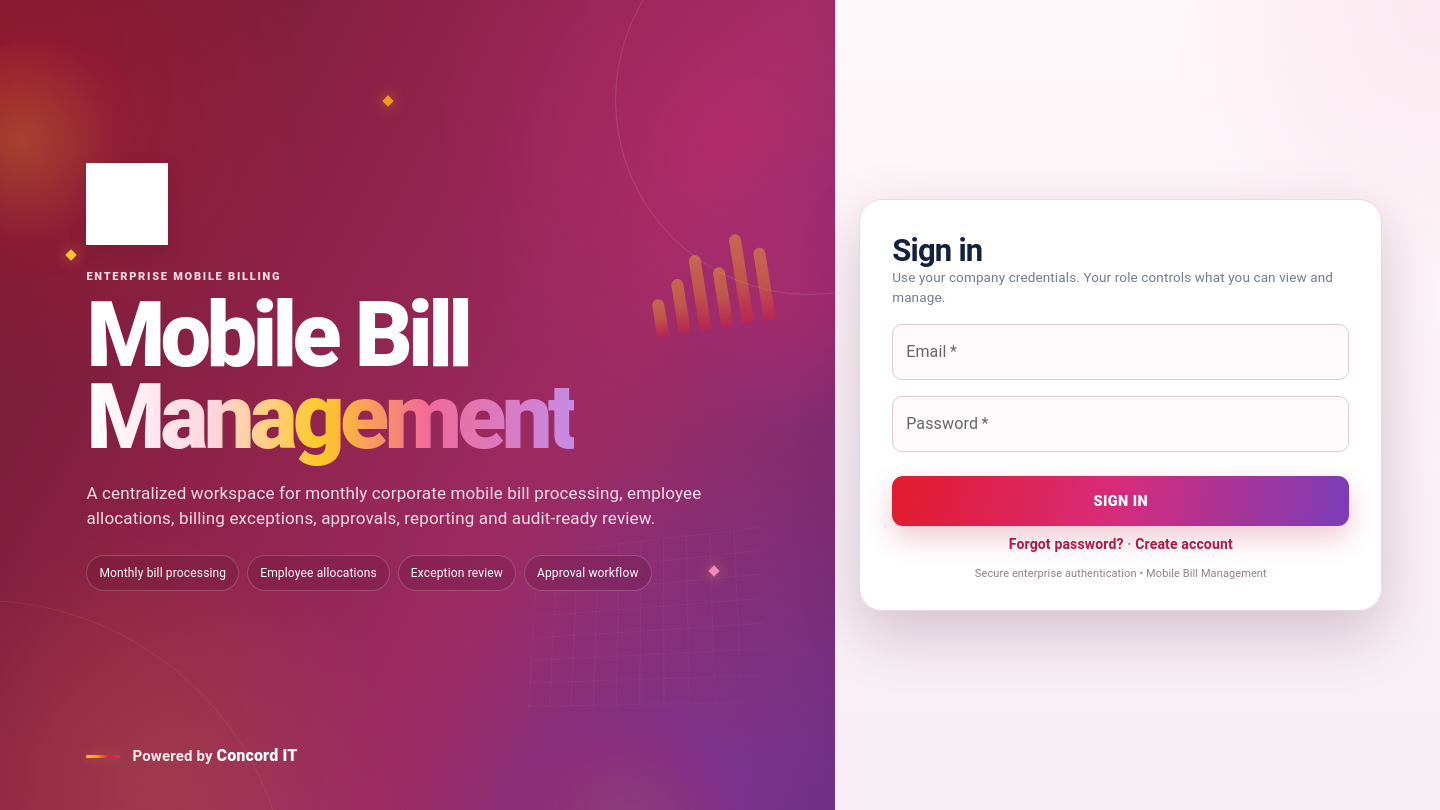
Test case: LoginPage › shows the server error message when login is rejected
The image size is (1440, 810).
Type "engineer@example.com" into the field labelled "Email *". click: {"x": 1121, "y": 352}
box: 892,324 -> 1349,380
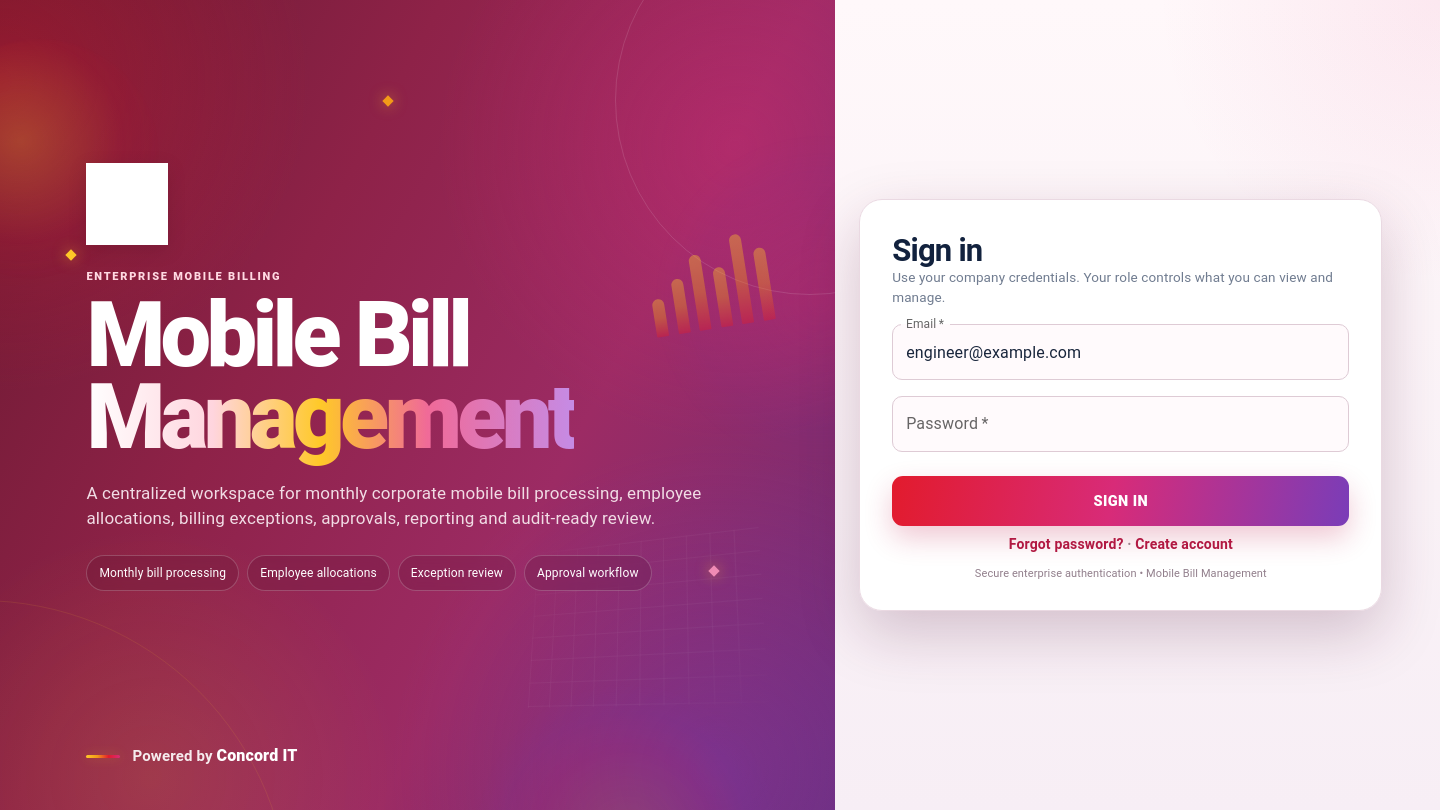
Type "wrong-password" into the password field labelled "Password *". click: {"x": 1121, "y": 424}
box: 892,396 -> 1349,452
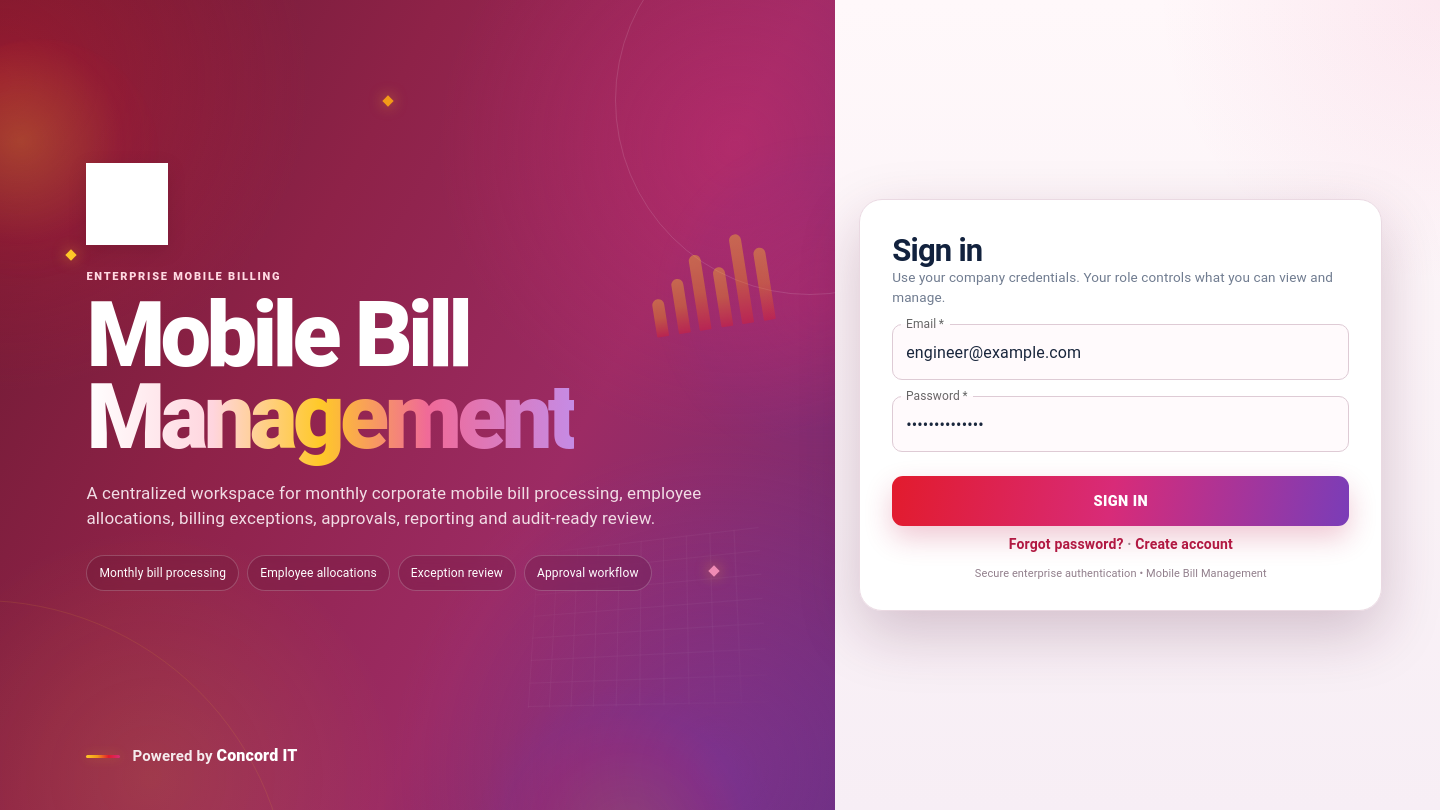
Click the button "Sign in". click: {"x": 1121, "y": 501}
box: 892,476 -> 1349,526
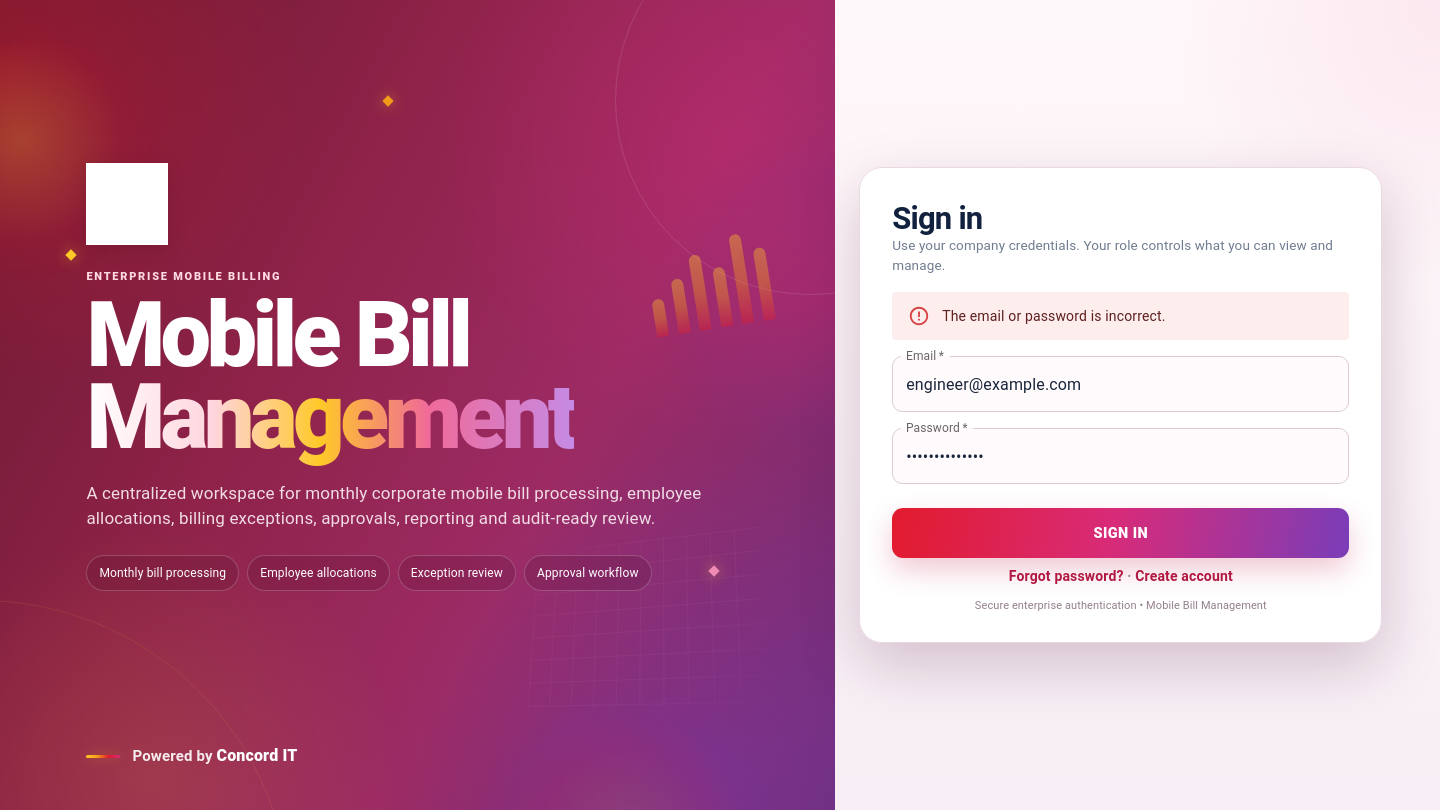
Expected: the text "The email or password is incorrect." is shown, 942,308 -> 1166,324
